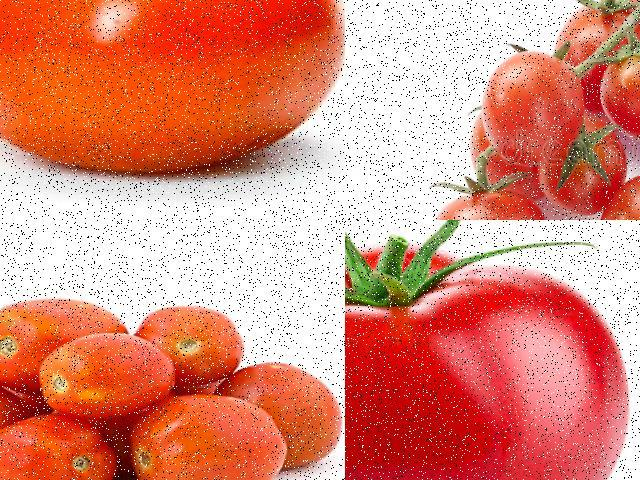tomato: (345, 247, 639, 479), (0, 0, 344, 179), (468, 38, 592, 177), (214, 364, 344, 472), (140, 396, 285, 479), (0, 296, 134, 385), (44, 332, 172, 416), (138, 306, 244, 395), (0, 415, 134, 479), (548, 120, 634, 219), (556, 6, 639, 101), (418, 177, 570, 219), (609, 42, 639, 150)
